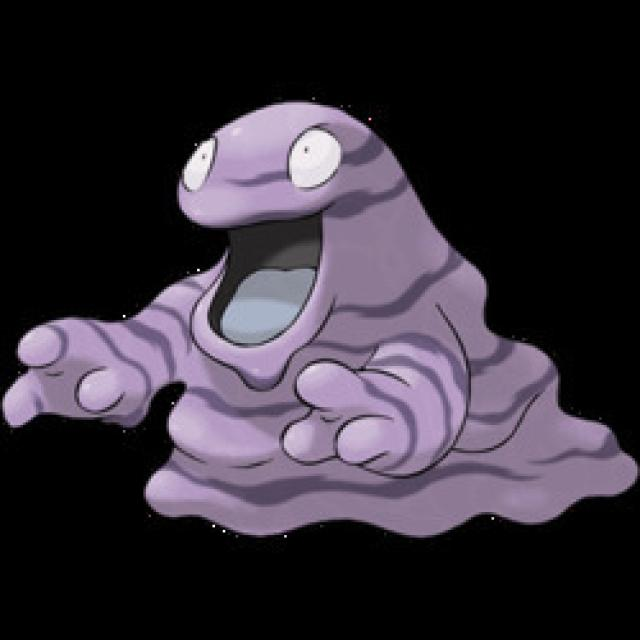Grimer: (144, 92, 507, 488)
